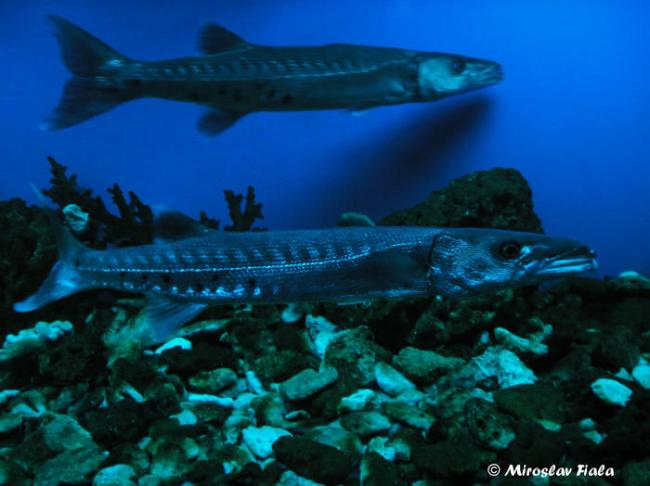fish: (15, 180, 598, 343), (38, 12, 506, 139)
